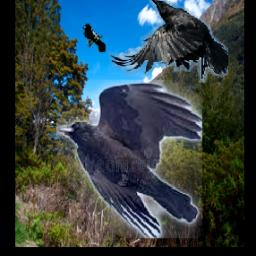Crow: (57, 81, 203, 239), (108, 0, 229, 83), (82, 25, 106, 53)
